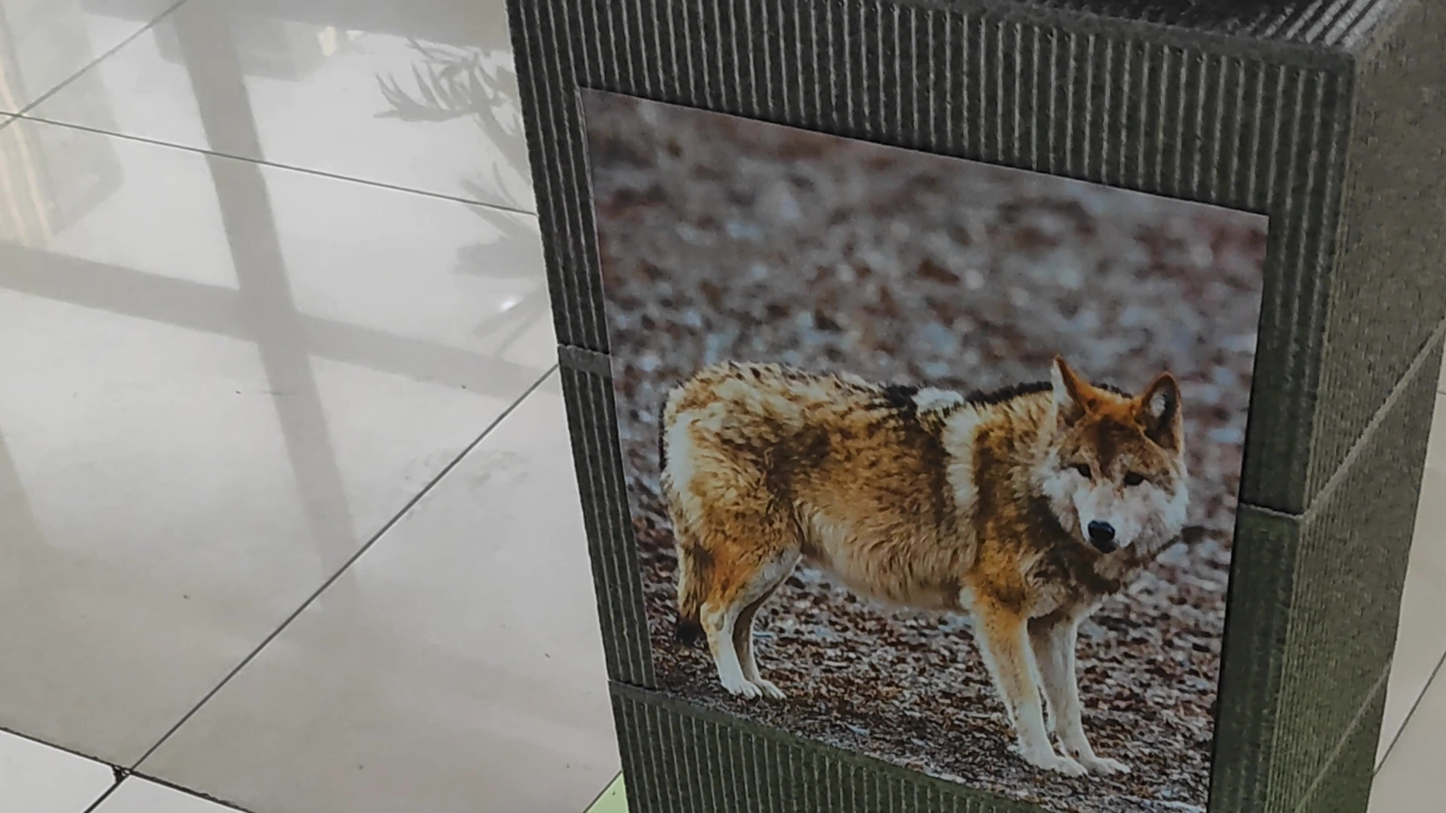wolf: (619, 259, 1213, 763)
